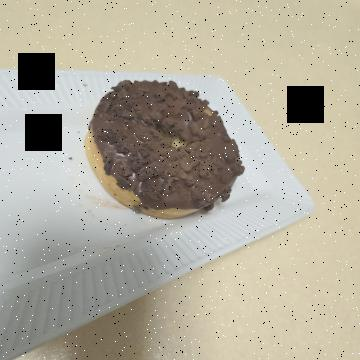doughnut: (66, 102, 227, 289)
